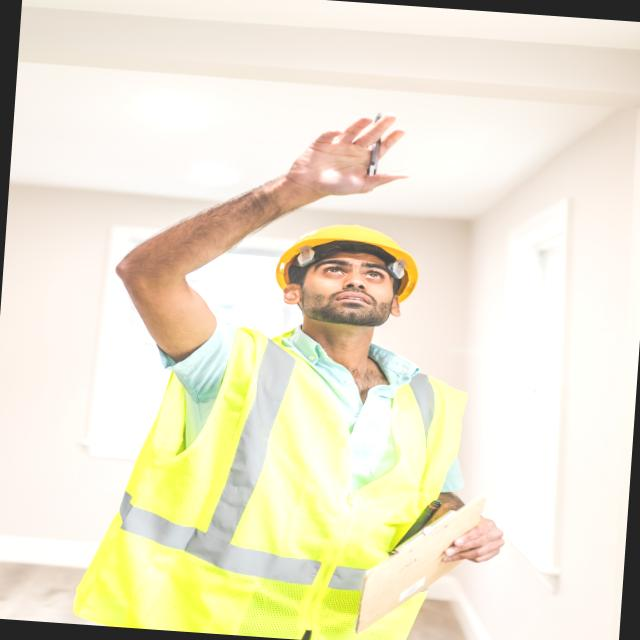helmet: (268, 214, 428, 303)
no-goggles: (297, 254, 410, 292)
vest: (76, 317, 478, 640)
